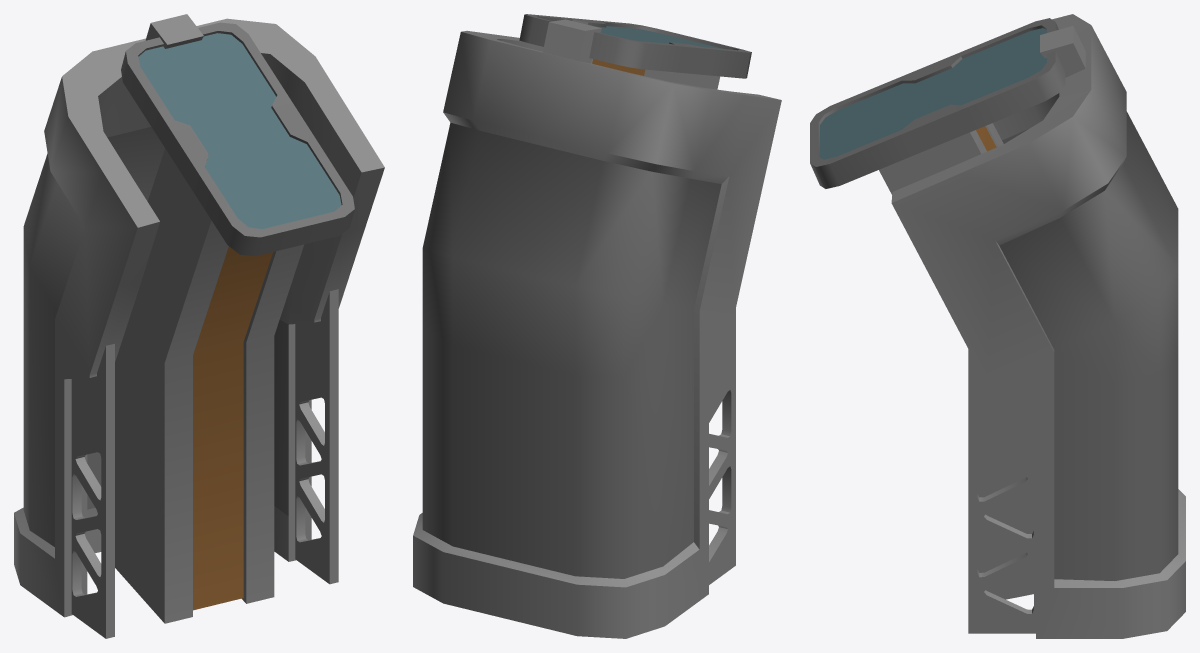
Rendered from computer.glb.
3 renders of one model, left to right at view 1: azimuth 30°, elevation 25°; view 2: azimuth 150°, elevation 25°; view 3: azimuth 270°, elevation 25°, orthographic.
Visible parts, largest first — view 1: Computer; view 2: Computer; view 3: Computer.
Boxes of the visible parts, <box> form: Computer: <box>14,14,384,638</box>; Computer: <box>413,14,781,638</box>; Computer: <box>810,14,1185,638</box>.
Bounding box in the file's own units: 0.4696 × 1.01 × 0.6293.
